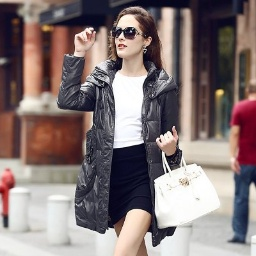face: (111, 6, 163, 67)
